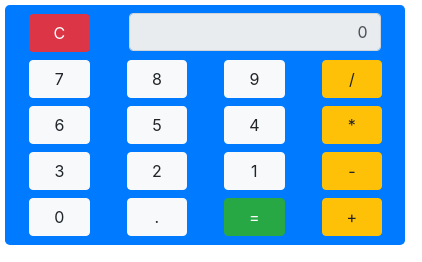
Test: App › Deve limpar o campo de numeros
The width and height of the screenshot is (422, 262).
Click the button "2". click: [157, 171]
box: x1=126 y1=152 x2=187 y2=190
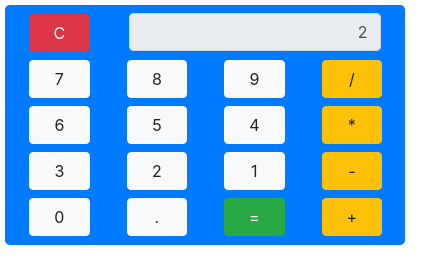
Click the button "C". click: [59, 33]
box: x1=29 y1=14 x2=90 y2=52
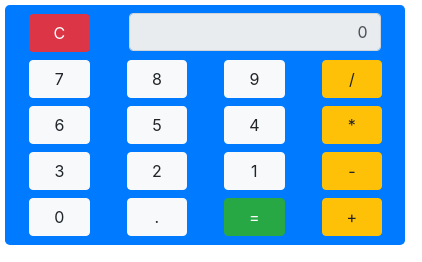
Check: the field with test id "textNumbers" holds "0", box x1=128 y1=13 x2=380 y2=51
